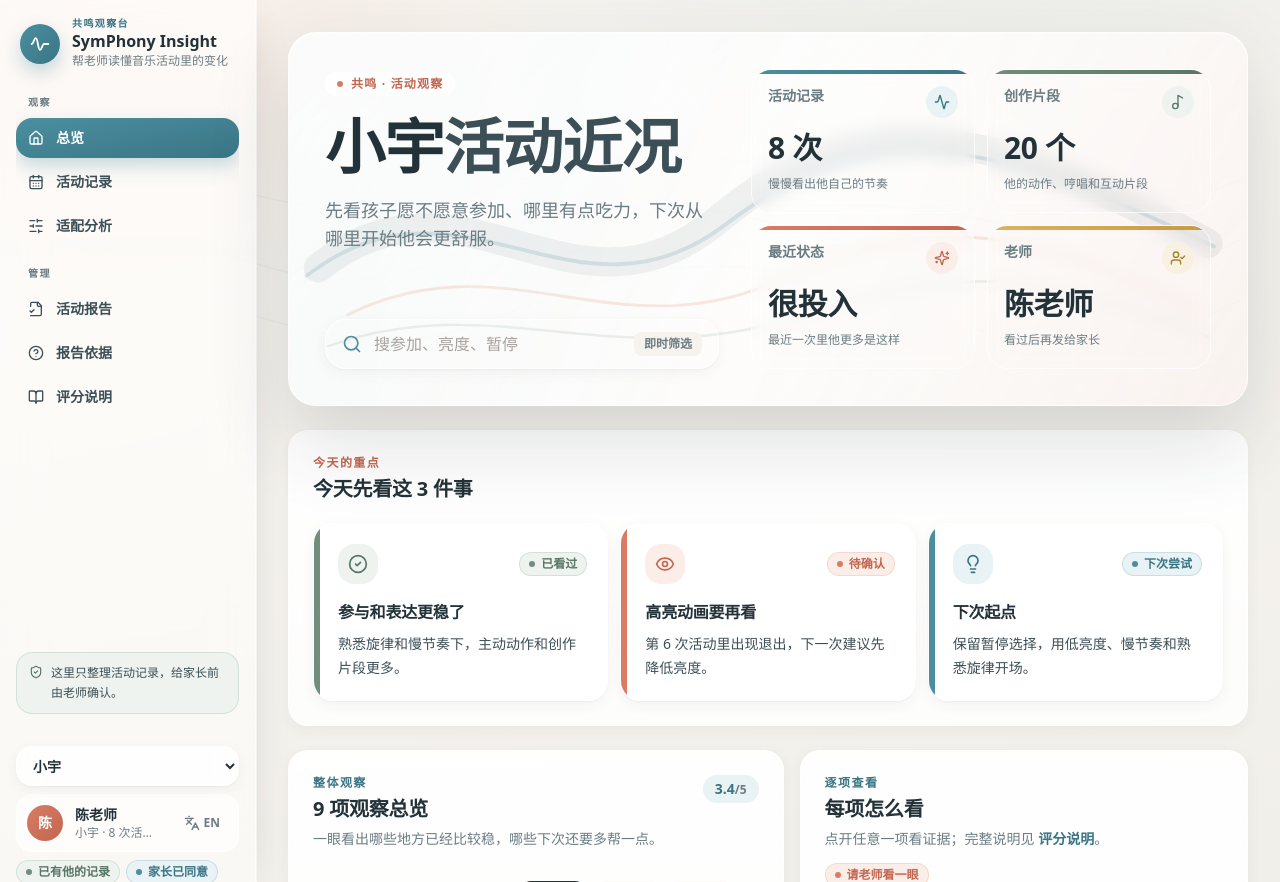
Test: App shell › switches between children from the header selector
Select "乐乐" in the dropdown named "切换孩子": (128, 766) [16,746,239,786]
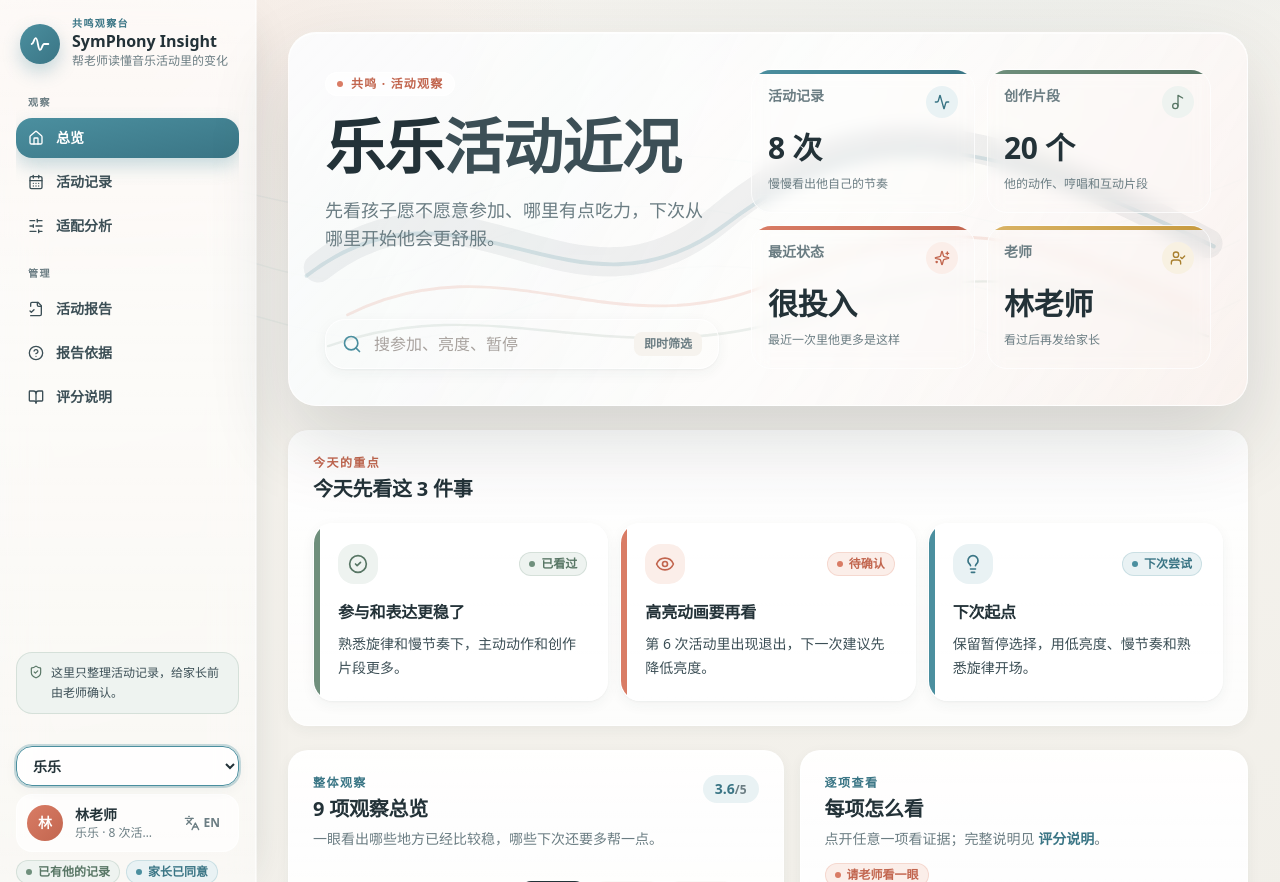
Check: the text "乐乐 · 8 次活动记录" is shown, box [75,825,164,841]
